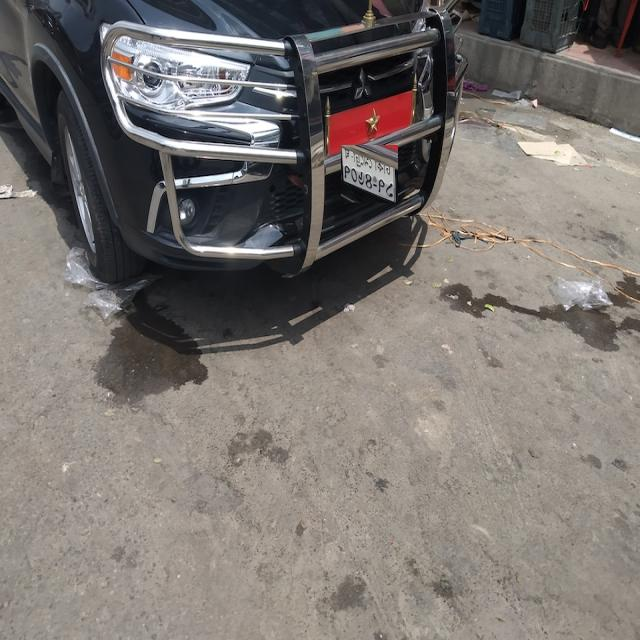numberplate: (341, 145, 398, 203)
